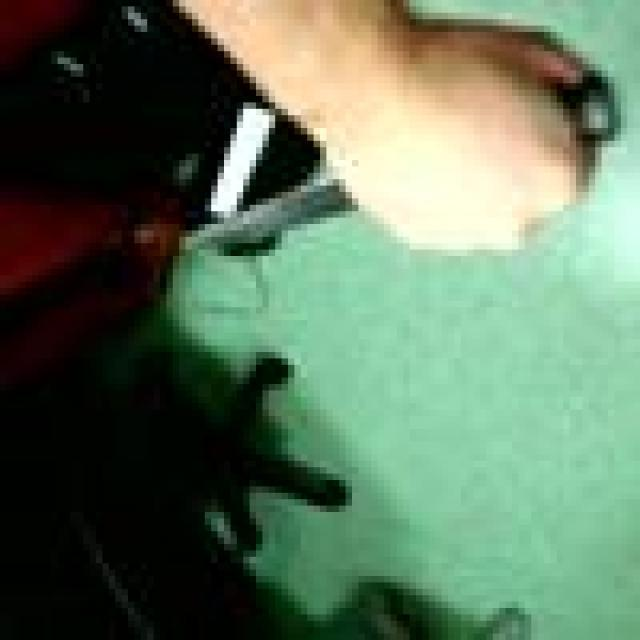faca: (153, 57, 640, 281)
